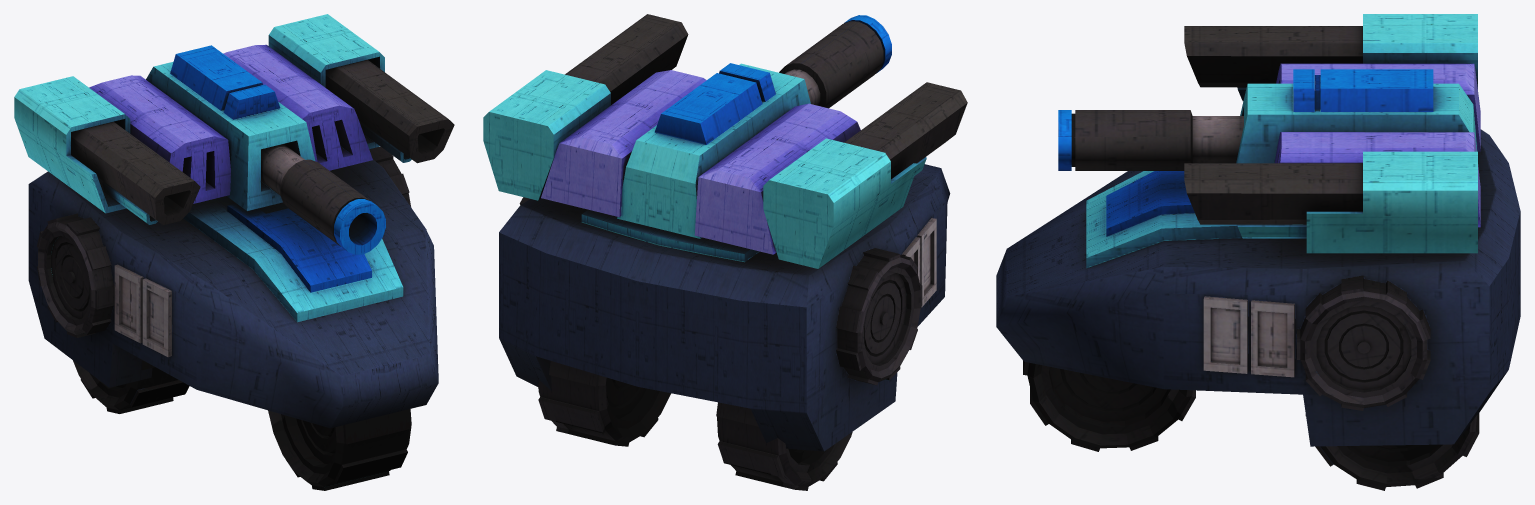
File: PlayerA16.obj
The picture shows the model from 3 angles, left to right: view 1: azimuth 30°, elevation 25°; view 2: azimuth 150°, elevation 25°; view 3: azimuth 270°, elevation 25°; orthographic projection. The views are drawn at different scales.
Parts seen in each view (by area): view 1: Object001, Object002, Object004, Object003; view 2: Object001, Object002, Object003; view 3: Object001, Object002, Object004, Object003.
Boxes of the visible parts, x1,y1,x2,y2 form: Object001: [28, 44, 438, 428]; Object002: [14, 14, 454, 224]; Object004: [268, 409, 411, 490]; Object003: [73, 360, 189, 413]; Object001: [499, 15, 950, 451]; Object002: [483, 14, 967, 268]; Object003: [538, 361, 852, 490]; Object001: [996, 63, 1520, 446]; Object002: [1184, 14, 1477, 253]; Object004: [1023, 361, 1195, 451]; Object003: [1305, 413, 1479, 490].
Bounding box in the file's own units: 93.13 × 89.07 × 119.
1 material, 1 textured.
